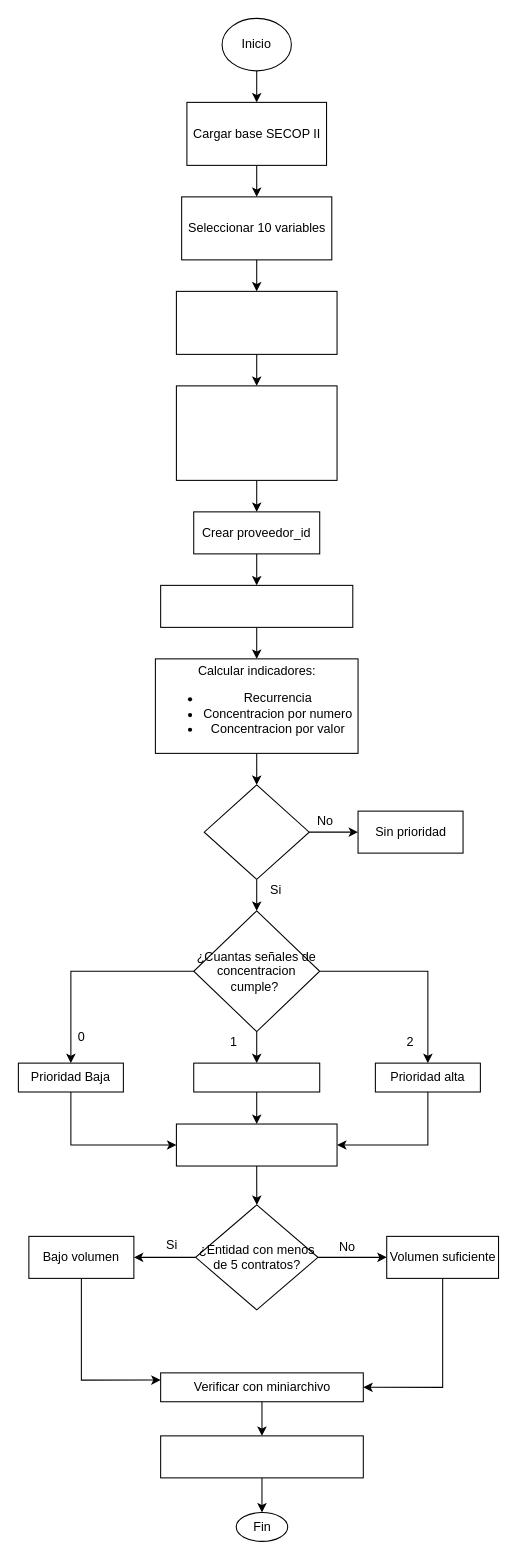
This 518x1560 diagram has some shape labels left out. Here are the shapes that lost their labels. From the top down, the centre of each, then its label:
At point (256, 322): "Limpiar y normalizar datos".
At point (256, 432): "Filtrar modalidades: Licitacion publica Licitacion publica Obra Publica".
At point (256, 605): "Agrupar por entidad + proveedor".
At point (256, 831): "¿Recurrencia >= 3?".
At point (256, 1077): "Prioridad Media".
At point (256, 1144): "Definir contexto de volumen".
At point (261, 1456): "Generar tablas, graficos e informe".
